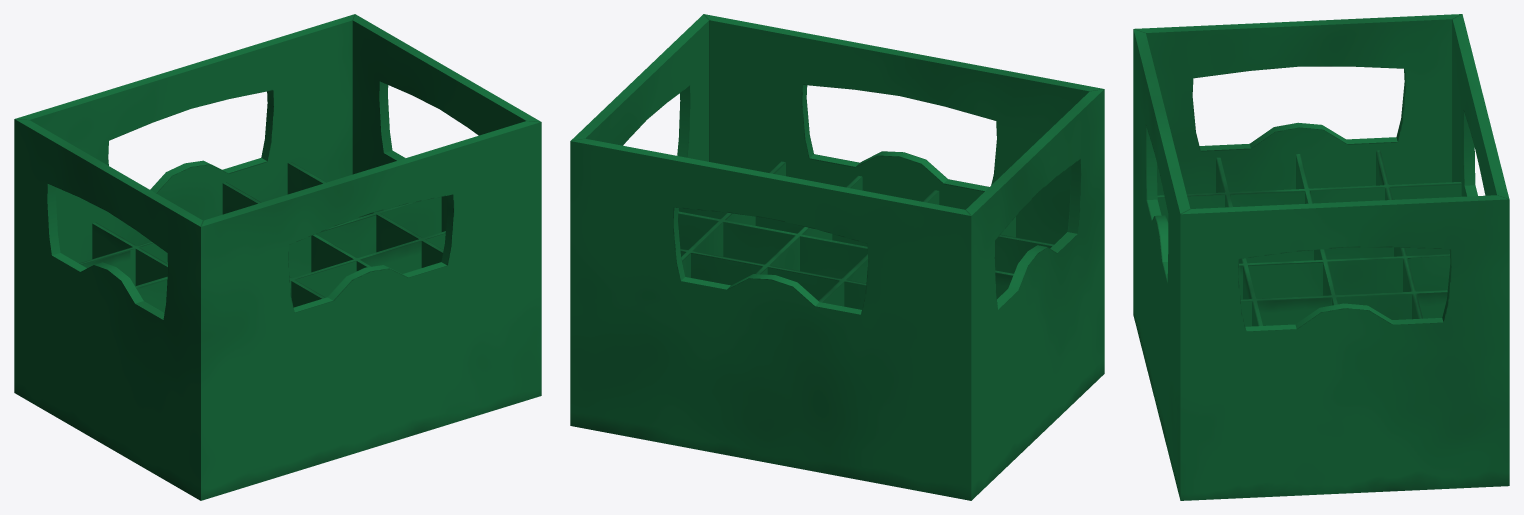
Rendered from Krata.fbx.
The picture shows the model from 3 angles, left to right: view 1: azimuth 30°, elevation 25°; view 2: azimuth 150°, elevation 25°; view 3: azimuth 270°, elevation 25°; orthographic projection. The views are drawn at different scales.
Parts seen in each view (by area): view 1: Siedzenie meneli; view 2: Siedzenie meneli; view 3: Siedzenie meneli.
Boxes of the visible parts, <box> form: Siedzenie meneli: <box>14,14,541,500</box>; Siedzenie meneli: <box>570,14,1104,500</box>; Siedzenie meneli: <box>1133,14,1509,500</box>.
Size of the model in its own units: 63.33 by 42.27 by 50.25.
